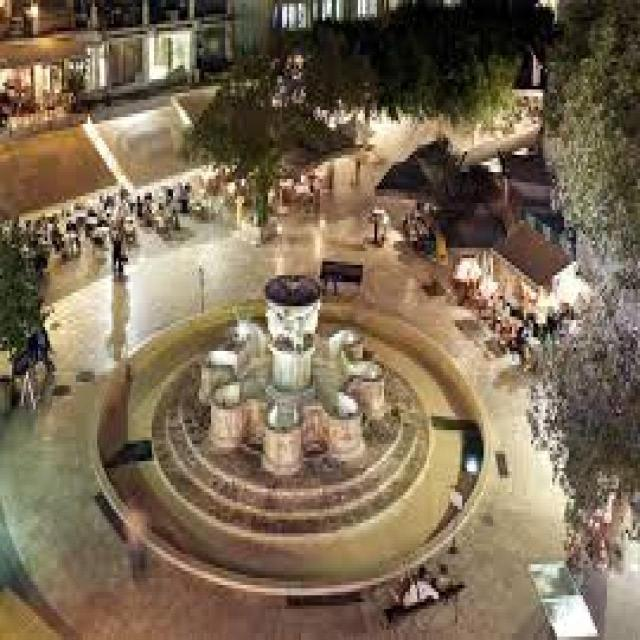Liontaria: (196, 275, 391, 480)
